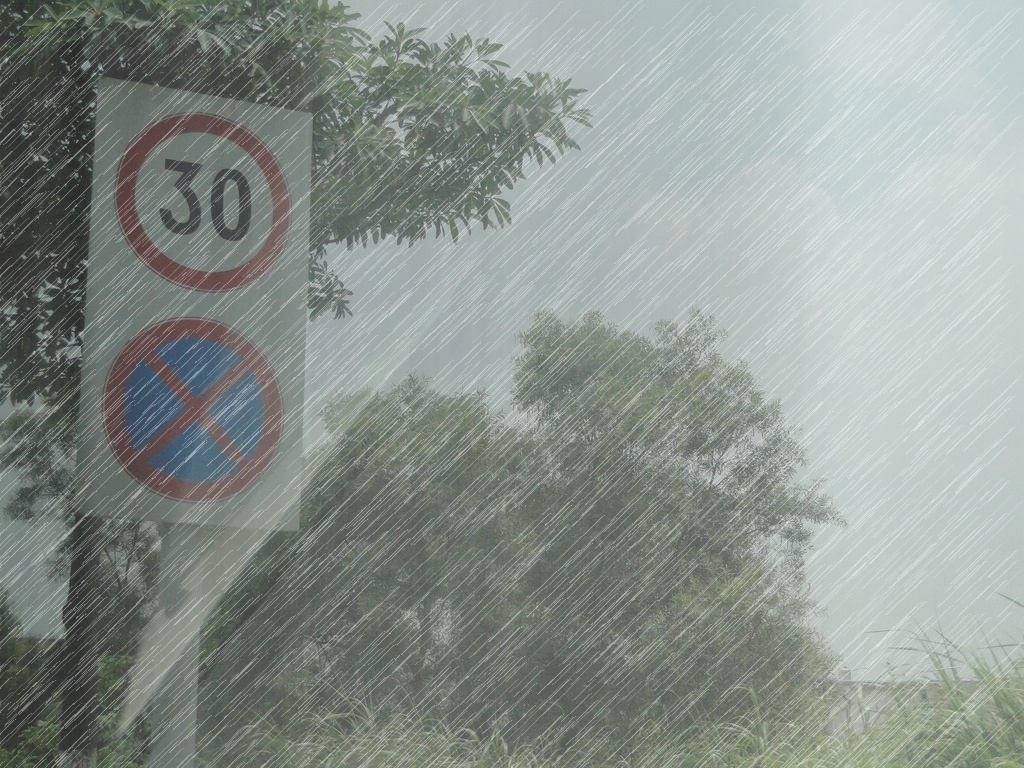Prohibitory Signs: (101, 316, 286, 503), (113, 110, 292, 296)
